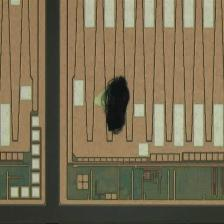PARTICLE: (93, 74, 134, 137)
